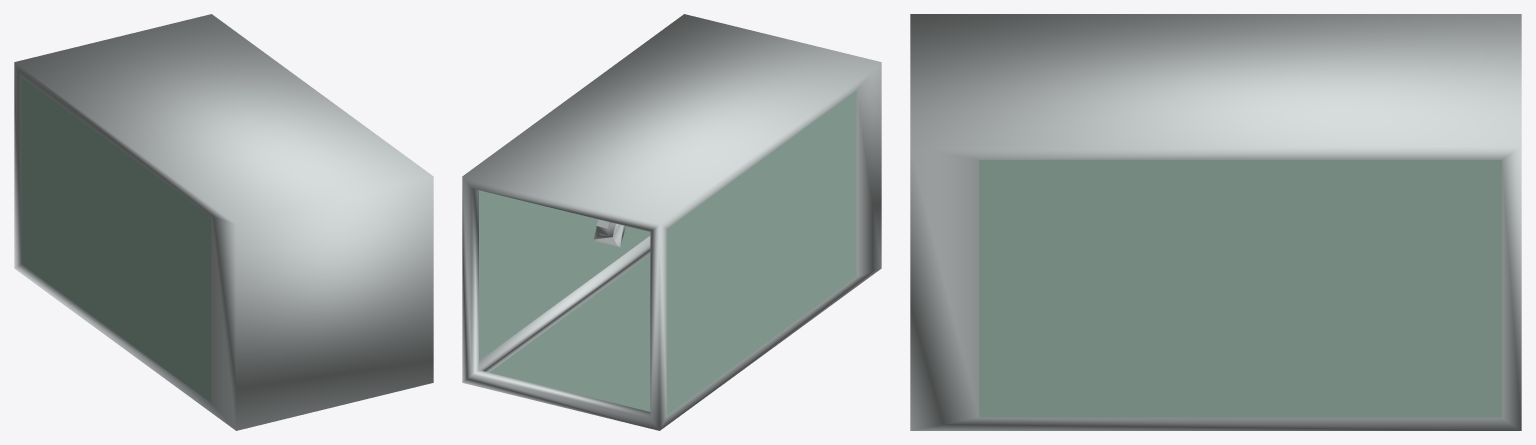
The model's file is shower.obj.
The picture shows the model from 3 angles, left to right: view 1: azimuth 30°, elevation 25°; view 2: azimuth 150°, elevation 25°; view 3: azimuth 270°, elevation 25°; orthographic projection. The views are drawn at different scales.
Parts seen in each view (by area): view 1: shower; view 2: shower; view 3: shower.
Boxes of the visible parts, x1=… form: shower: x1=14, y1=14, x2=433, y2=430; shower: x1=462, y1=14, x2=881, y2=430; shower: x1=910, y1=14, x2=1521, y2=430.
Size of the model in its own units: 0.5618 by 0.5818 by 1.09.
